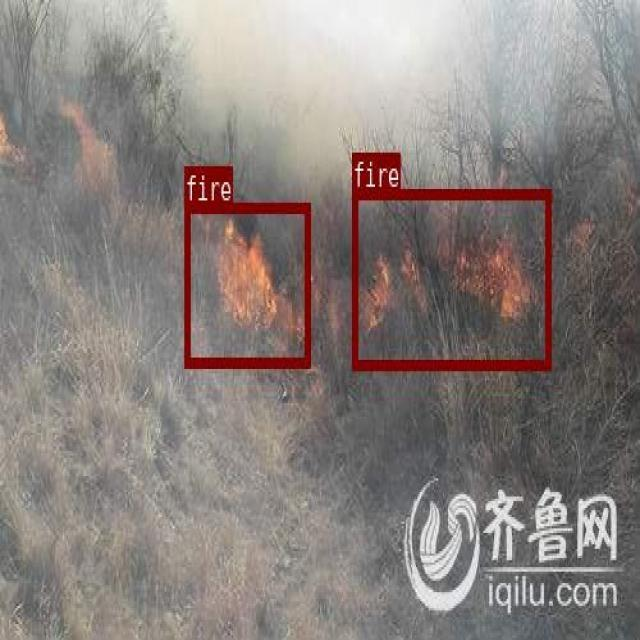fire: (352, 189, 550, 368), (184, 201, 309, 365)
